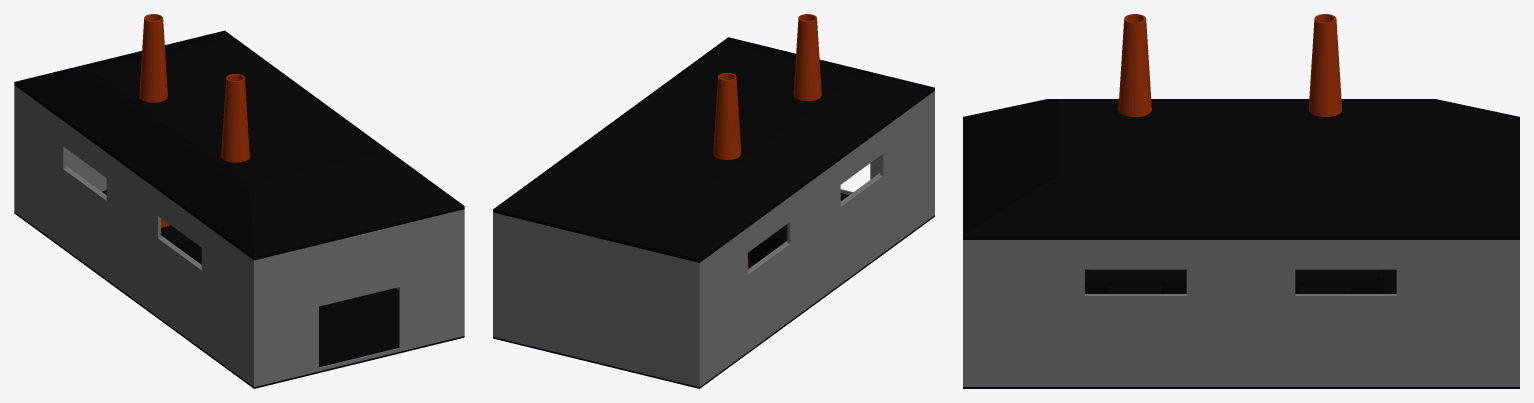
The model's file is Zavod.fbx.
The picture shows the model from 3 angles, left to right: view 1: azimuth 30°, elevation 25°; view 2: azimuth 150°, elevation 25°; view 3: azimuth 270°, elevation 25°; orthographic projection. The views are drawn at different scales.
Visible parts, largest first — view 1: Cube, Cube.002, Cube.001; view 2: Cube, Cube.001, Cube.002; view 3: Cube, Cube.001, Cube.002.
Part boxes in pixels (bbox=[...]): Cube: bbox=[14, 30, 464, 388]; Cube.002: bbox=[139, 14, 201, 264]; Cube.001: bbox=[221, 74, 249, 162]; Cube: bbox=[493, 37, 934, 388]; Cube.001: bbox=[750, 14, 821, 263]; Cube.002: bbox=[713, 73, 755, 269]; Cube: bbox=[963, 99, 1519, 388]; Cube.001: bbox=[1085, 14, 1186, 293]; Cube.002: bbox=[1295, 14, 1383, 293].
Size of the model in its own units: 319 by 353 by 630.
